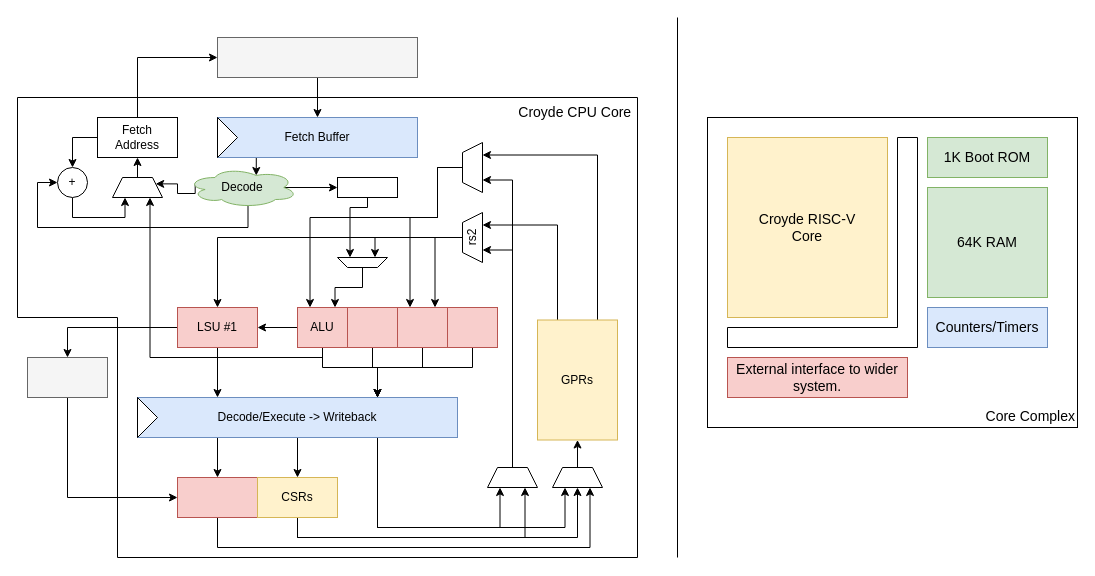
The diagram is 1095 pixels wide and 576 high, and some of its shapes have lost their labels. The centre of each missing label's shape, as x and y in pixels:
CFU: the point at 372,327
Crypto: the point at 472,327
Data Memory: the point at 67,377
imm: the point at 367,187
Instruction Memory: the point at 317,57
LSU #2: the point at 217,497
MDU: the point at 422,327
rs1: the point at 472,167
